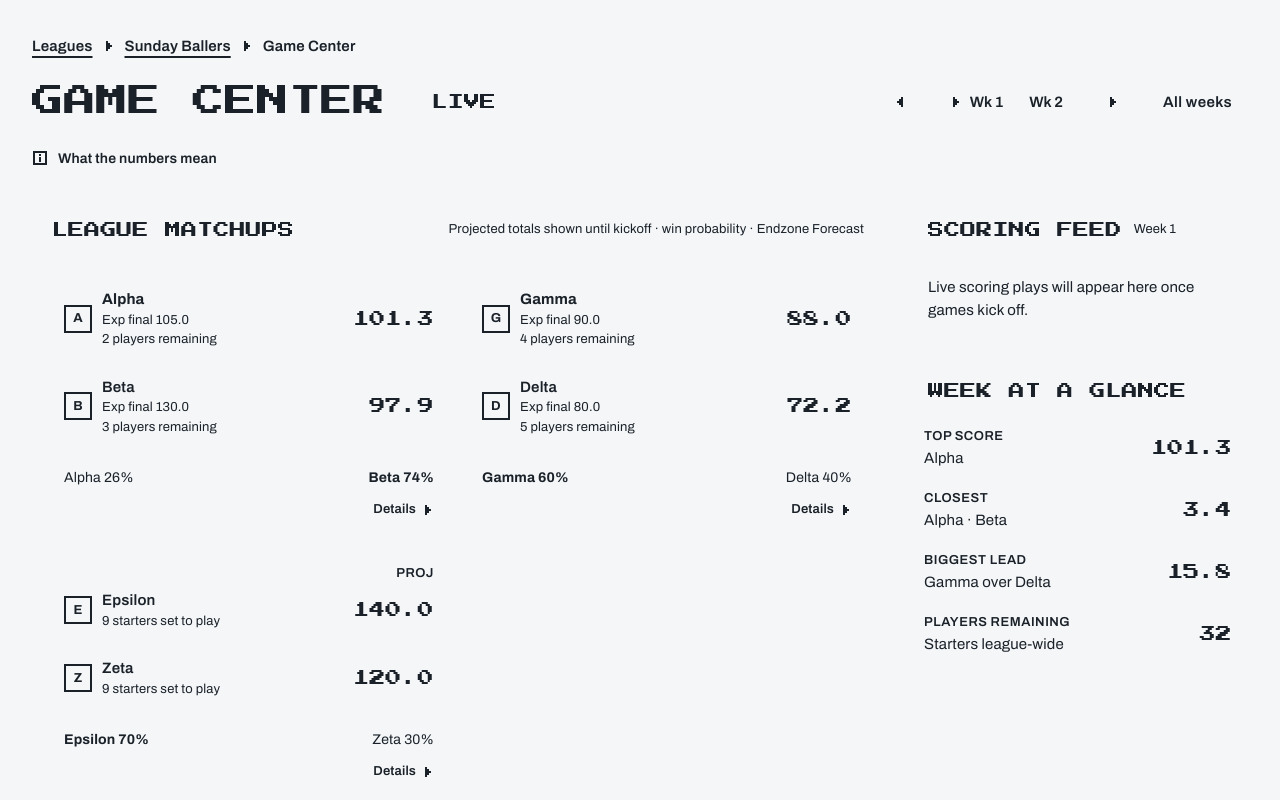
Test: the Week at a glance tile is not rendered under All weeks, and a week brings it back
Expected: the element with test id "week-glance" is shown, [908, 365, 1248, 665]
Expected: the text with test id "week-glance-value" reads "101.3", [1151, 440, 1232, 456]
What coordinates should you click on to do the following:
click the button "All weeks"
I would click on:
 (1197, 102)
Its box is [1147, 80, 1248, 124].
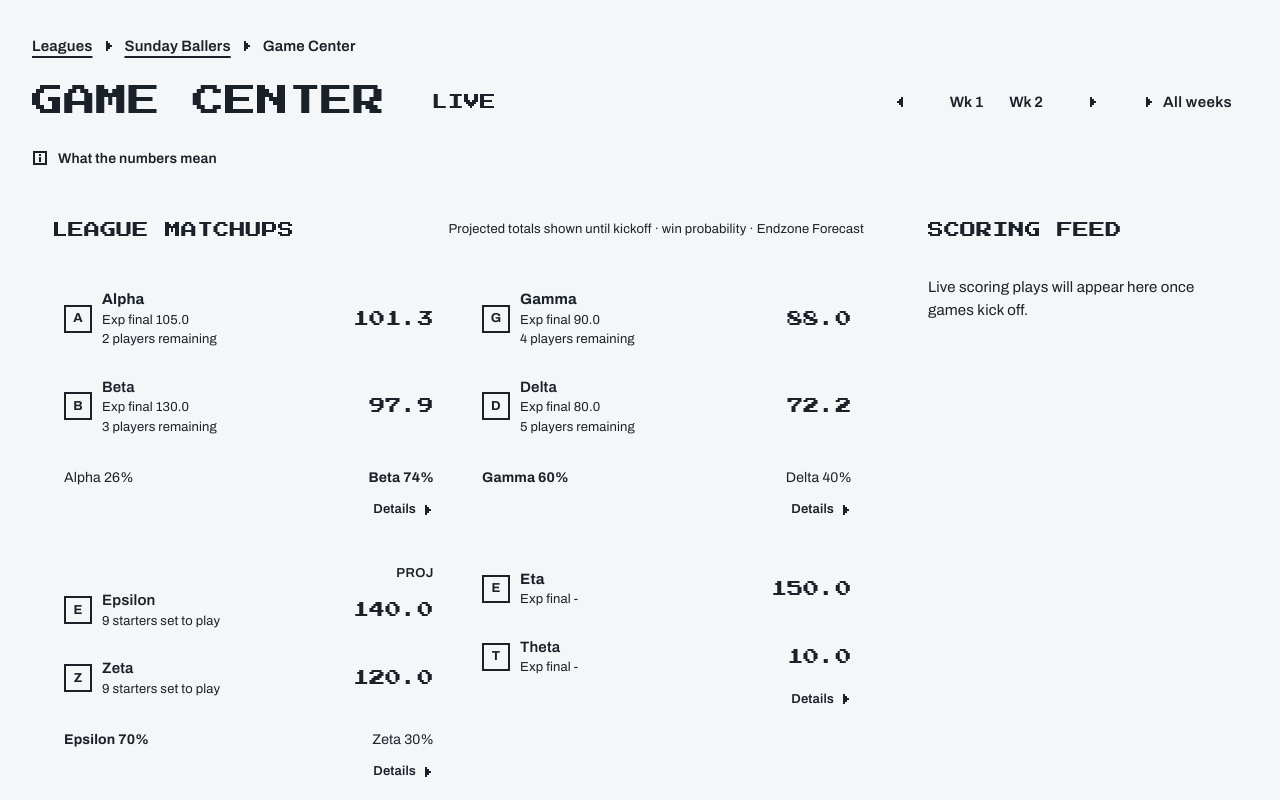
Expected: the heading "Scoring feed" is shown, [928, 218, 1122, 242]
Result: the element with test id "week-glance" is gone
Result: the heading "Week at a glance" is gone
What coordinates should you click on to do the following:
click the radio button labelled "Wk 2"
I would click on:
 (1026, 102)
Its box is [995, 80, 1057, 124].
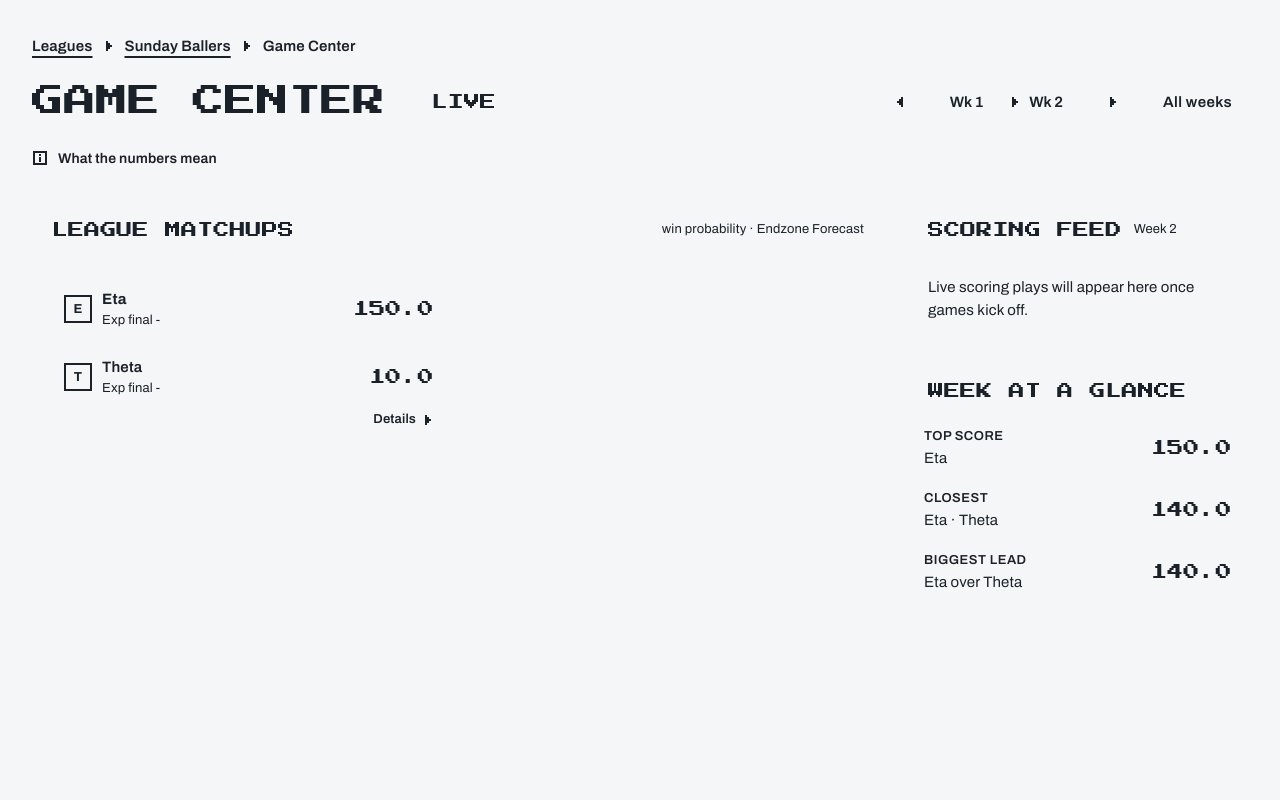
Result: the text with test id "week-glance-value" reads "150.0" at [1151, 440, 1232, 456]
